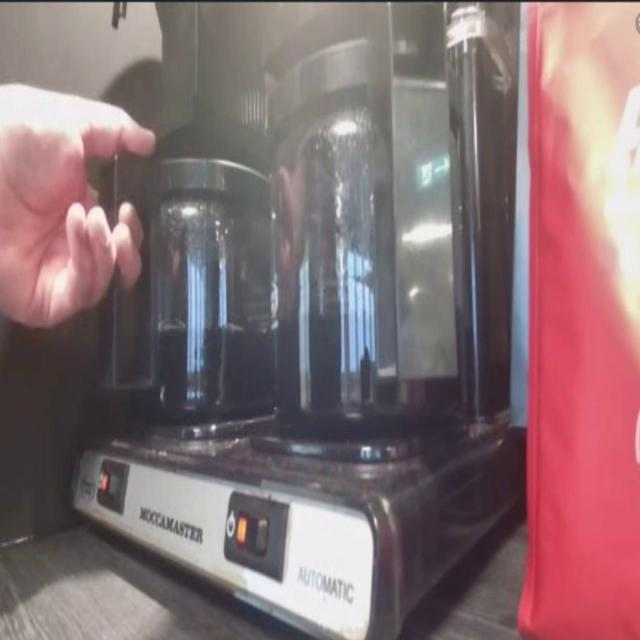coffee: (274, 144, 456, 423), (147, 196, 270, 406)
